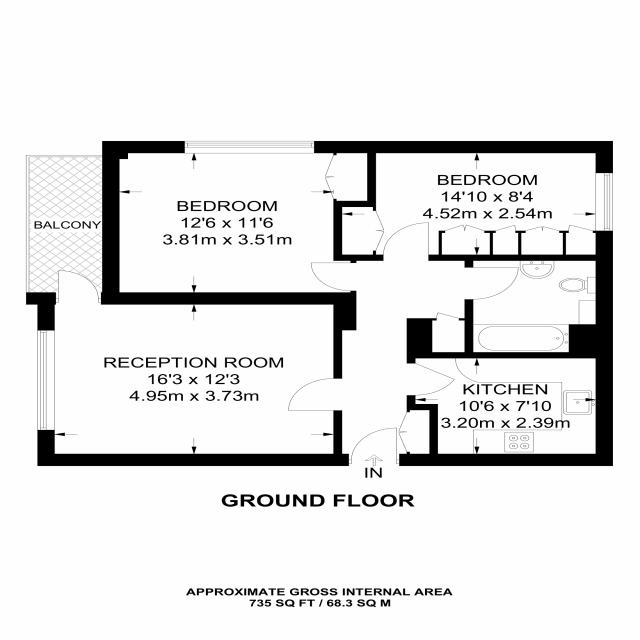DOOR: (381, 221, 430, 262), (286, 377, 343, 412), (349, 426, 398, 466), (464, 266, 520, 301), (406, 362, 457, 397), (57, 269, 100, 304), (309, 262, 357, 292)
ROOM: (36, 268, 357, 466), (101, 141, 377, 306), (333, 140, 614, 262), (406, 351, 614, 467)
WINDOW: (36, 329, 56, 432), (183, 140, 315, 154), (593, 171, 614, 233)
